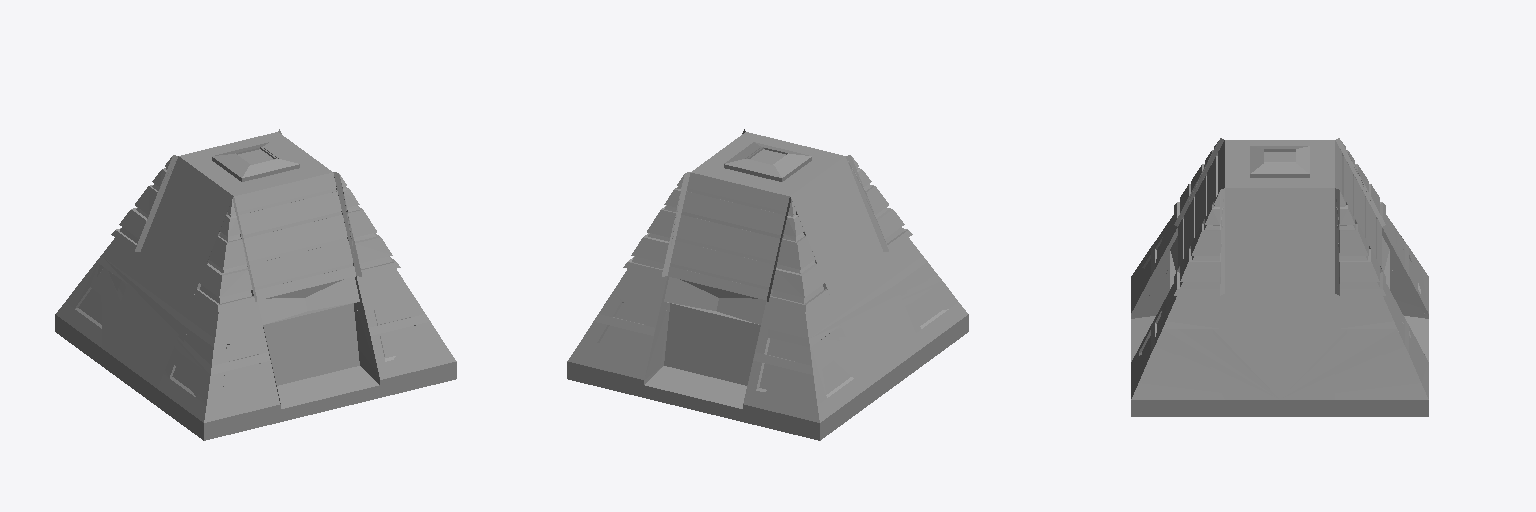
The model's file is house.obj.
3 renders of one model, left to right at view 1: azimuth 30°, elevation 25°; view 2: azimuth 150°, elevation 25°; view 3: azimuth 270°, elevation 25°, orthographic.
Visible parts, largest first — view 1: Cube; view 2: Cube; view 3: Cube.
Part boxes in pixels (bbox=[...]): Cube: bbox=[55, 129, 456, 440]; Cube: bbox=[567, 129, 968, 440]; Cube: bbox=[1131, 138, 1428, 416].
Size of the model in its own units: 1.77 by 1.34 by 1.81.